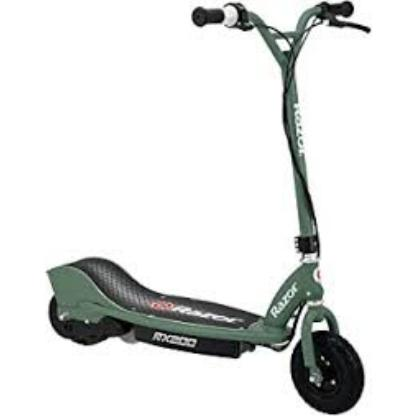bike: (47, 1, 369, 416)
